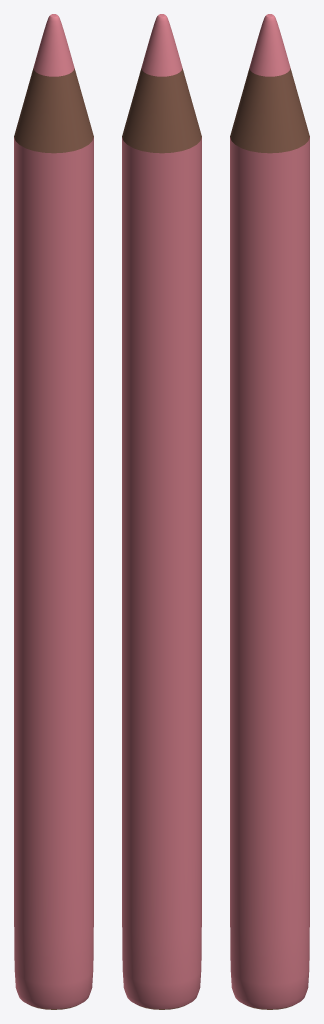
File: Pen.fbx
3 renders of one model, left to right at view 1: azimuth 30°, elevation 25°; view 2: azimuth 150°, elevation 25°; view 3: azimuth 330°, elevation 25°, orthographic.
Visible parts, largest first — view 1: Cylinder.013; view 2: Cylinder.013; view 3: Cylinder.013.
Boxes of the visible parts, x1,y1,x2,y2 form: Cylinder.013: (14,14,93,1009); Cylinder.013: (122,14,201,1009); Cylinder.013: (230,14,309,1009).
Size of the model in its own units: 1.46 by 19.9 by 1.47.
